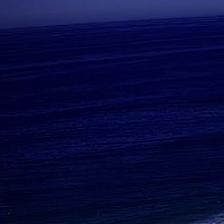surfer: (150, 204, 154, 209), (99, 210, 102, 216), (6, 209, 10, 212), (219, 199, 223, 202)
